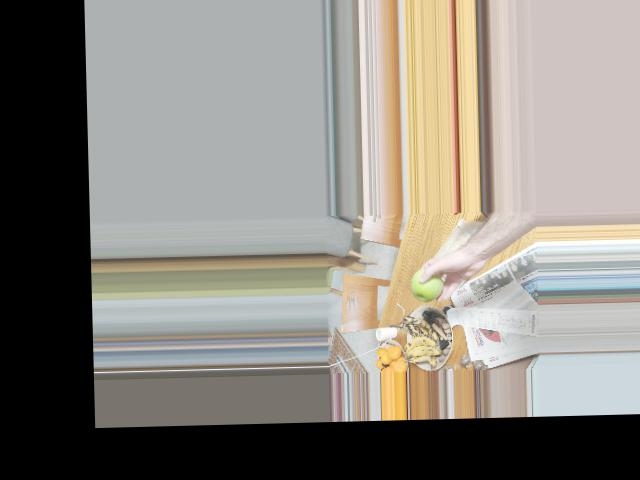apple: (408, 265, 450, 302)
